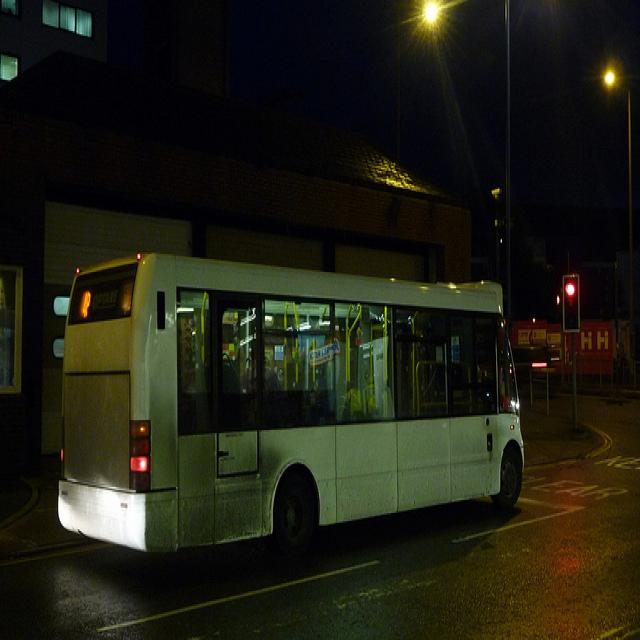Bus: (60, 213, 563, 579)
